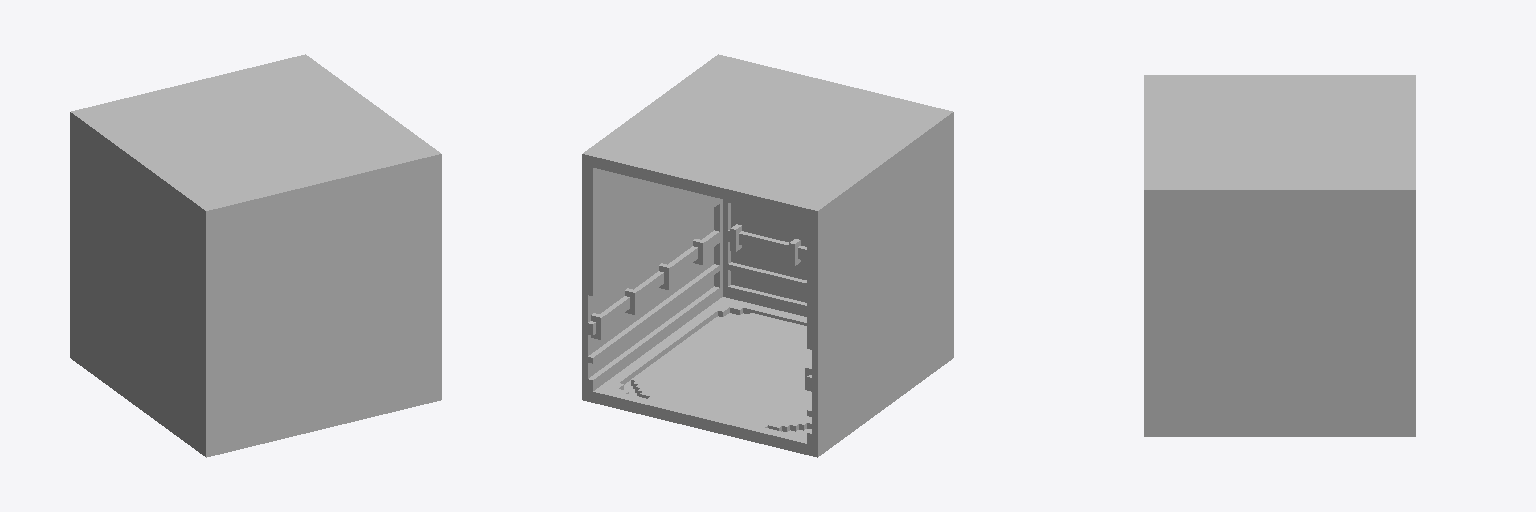
The model's file is hallway pieces-1.obj.
The picture shows the model from 3 angles: view 1: azimuth 30°, elevation 25°; view 2: azimuth 150°, elevation 25°; view 3: azimuth 270°, elevation 25°; orthographic projection.
Visible parts, largest first — view 1: object 1; view 2: object 1; view 3: object 1.
Boxes of the visible parts, x1=… form: object 1: x1=70, y1=54, x2=441, y2=457; object 1: x1=582, y1=54, x2=953, y2=457; object 1: x1=1144, y1=75, x2=1415, y2=436.
Bounding box in the file's own units: 4.4 × 4.4 × 4.4.